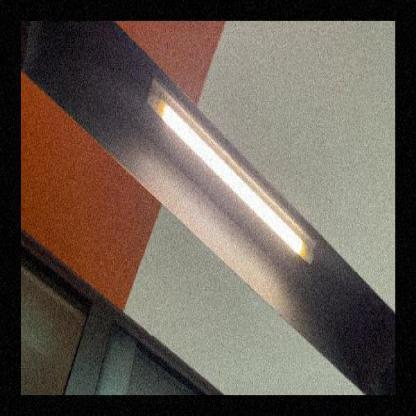light_on: (137, 68, 321, 275)
